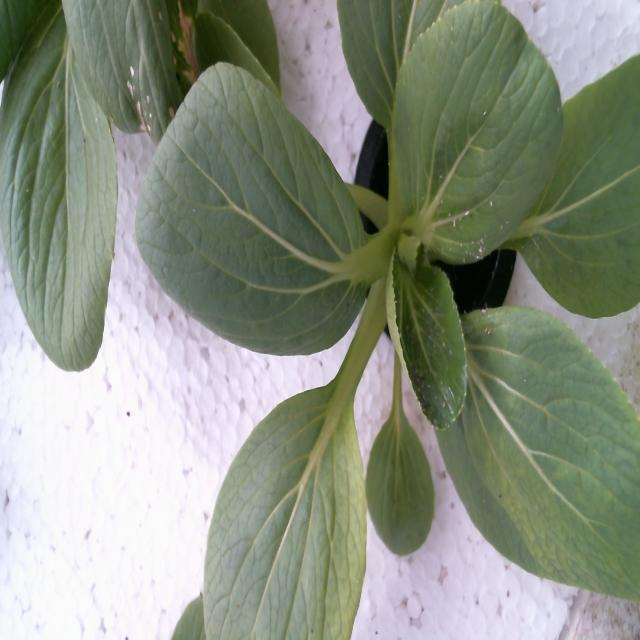pakcoy_tidak_sehat: (122, 42, 640, 640)
